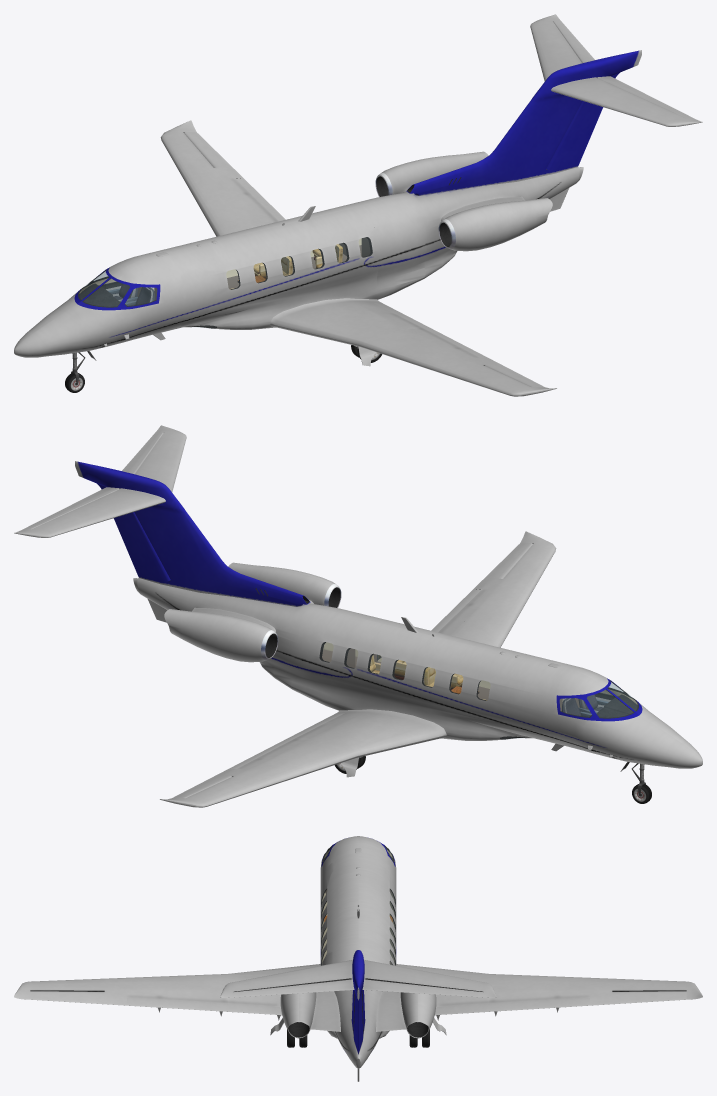
The model's file is pilatus_pc-24_super_versatile_jet.glb.
The picture shows the model from 3 angles, top to bottom: view 1: azimuth 30°, elevation 25°; view 2: azimuth 150°, elevation 25°; view 3: azimuth 270°, elevation 25°; orthographic projection. The views are drawn at different scales.
Parts seen in each view (by area): view 1: Object_7, Object_9, Object_8, Object_6, Object_15, Object_4, Object_22; view 2: Object_7, Object_9, Object_8, Object_6, Object_15, Object_22, Object_4; view 3: Object_7, Object_9, Object_8, Object_15.
Part boxes in pixels (box(x1,y1,x2,y2)): Object_7: box(14, 14, 702, 392); Object_9: box(72, 21, 684, 396); Object_8: box(71, 101, 603, 387); Object_6: box(78, 238, 371, 327); Object_15: box(78, 237, 372, 307); Object_4: box(79, 281, 122, 306); Object_22: box(230, 244, 342, 289); Object_7: box(14, 425, 702, 803); Object_9: box(32, 432, 644, 807); Object_8: box(113, 512, 645, 795); Object_6: box(320, 642, 638, 738); Object_15: box(319, 642, 638, 718); Object_22: box(369, 655, 486, 700); Object_4: box(594, 692, 637, 717); Object_7: box(220, 836, 686, 1081); Object_9: box(14, 842, 702, 1037); Object_8: box(30, 848, 589, 1053); Object_15: box(321, 845, 395, 965).
Size of the model in its own units: 16.8 by 5.39 by 16.94.
Materials: 19 (17 with a texture image).
